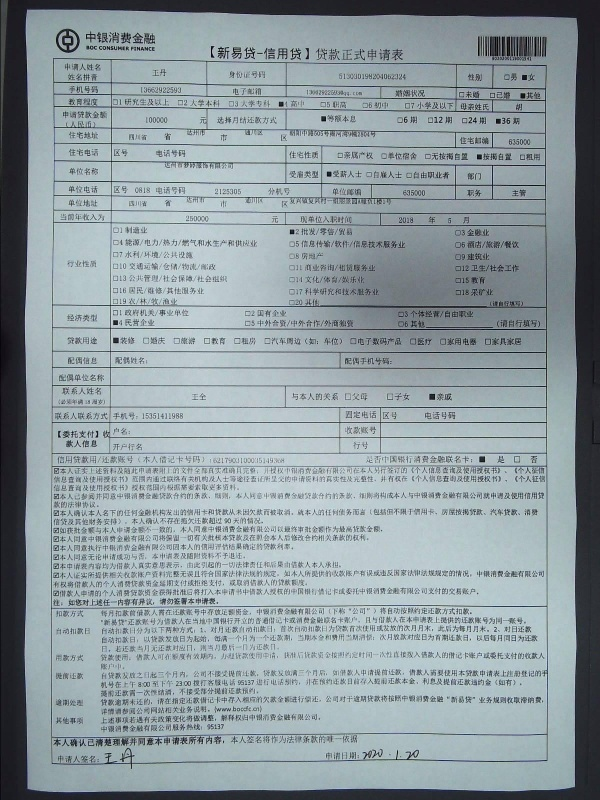text: (113, 747, 128, 770), (209, 44, 224, 63), (225, 44, 240, 63), (241, 44, 256, 63), (257, 44, 272, 63), (273, 44, 288, 63), (289, 44, 304, 63), (305, 44, 320, 63), (321, 44, 336, 63), (337, 44, 352, 63), (353, 44, 368, 63), (369, 44, 384, 63), (385, 44, 400, 63), (97, 30, 112, 46), (113, 30, 128, 46), (129, 30, 144, 46), (113, 97, 128, 112), (129, 97, 144, 112), (145, 97, 160, 112), (161, 97, 176, 112), (177, 97, 192, 112), (193, 97, 208, 112), (209, 97, 224, 112), (225, 97, 240, 112), (241, 97, 256, 112), (257, 97, 272, 112), (273, 97, 288, 112), (289, 97, 304, 112), (305, 97, 320, 112), (321, 97, 336, 112), (337, 97, 352, 112), (353, 97, 368, 112), (369, 97, 384, 112), (385, 97, 400, 112), (401, 97, 416, 112), (417, 97, 432, 112), (433, 97, 448, 112), (65, 733, 80, 748), (81, 733, 96, 748), (97, 733, 112, 748), (113, 733, 128, 748), (129, 733, 144, 748), (145, 733, 160, 748), (161, 733, 176, 748), (177, 733, 192, 748), (193, 733, 208, 748), (209, 733, 224, 748), (225, 733, 240, 748), (241, 733, 256, 748), (257, 733, 272, 748), (273, 733, 288, 748), (289, 733, 304, 748), (305, 733, 320, 748), (321, 733, 336, 748), (337, 733, 352, 748), (65, 753, 80, 768), (81, 753, 96, 768), (289, 273, 304, 287), (305, 273, 320, 287), (321, 273, 336, 287), (337, 273, 352, 287), (353, 273, 368, 287), (465, 286, 480, 300), (481, 286, 496, 300), (113, 335, 128, 349), (129, 335, 144, 349), (145, 335, 160, 349), (161, 335, 176, 349), (177, 335, 192, 349), (193, 335, 208, 349), (209, 335, 224, 349), (225, 335, 240, 349), (241, 335, 256, 349), (257, 335, 272, 349), (273, 335, 288, 349), (289, 335, 304, 349), (305, 335, 320, 349), (321, 335, 336, 349), (337, 335, 352, 349), (353, 335, 368, 349), (369, 335, 384, 349), (385, 335, 400, 349), (401, 335, 416, 349), (417, 335, 432, 349), (433, 335, 448, 349), (449, 335, 464, 349), (465, 335, 480, 349), (481, 335, 496, 349), (497, 335, 512, 349), (369, 452, 384, 466), (385, 452, 400, 466), (401, 452, 416, 466), (417, 452, 432, 466), (433, 452, 448, 466), (449, 452, 464, 466), (465, 452, 480, 466), (481, 452, 496, 466), (497, 452, 512, 466), (513, 452, 528, 466), (145, 30, 158, 46), (129, 747, 138, 770), (65, 62, 80, 75), (81, 62, 96, 75), (465, 89, 480, 102), (481, 89, 496, 102), (497, 89, 512, 102), (513, 89, 528, 102), (177, 160, 192, 173), (193, 160, 208, 173), (209, 160, 224, 173), (337, 169, 352, 182), (353, 169, 368, 182), (369, 169, 384, 182), (385, 169, 400, 182), (401, 169, 416, 182), (417, 169, 432, 182), (433, 169, 448, 182), (273, 187, 288, 200), (113, 237, 128, 250), (129, 237, 144, 250), (145, 237, 160, 250), (161, 237, 176, 250), (177, 237, 192, 250), (193, 237, 208, 250), (209, 237, 224, 250), (225, 237, 240, 250), (241, 237, 256, 250), (113, 261, 128, 274), (129, 261, 144, 274), (145, 261, 160, 274), (161, 261, 176, 274), (177, 261, 192, 274), (193, 261, 208, 274), (113, 273, 128, 286), (129, 273, 144, 286), (145, 273, 160, 286), (161, 273, 176, 286), (177, 273, 192, 286), (193, 273, 208, 286), (209, 273, 224, 286), (289, 262, 304, 275), (305, 262, 320, 275), (321, 262, 336, 275), (337, 262, 352, 275), (353, 262, 368, 275), (465, 238, 480, 251), (481, 238, 496, 251), (497, 238, 512, 251), (465, 262, 480, 275), (481, 262, 496, 275), (497, 262, 512, 275), (465, 274, 480, 287), (81, 312, 96, 325), (353, 356, 368, 369), (369, 356, 384, 369), (113, 441, 128, 454), (129, 441, 144, 454), (113, 624, 128, 637), (129, 624, 144, 637), (145, 624, 160, 637), (161, 624, 176, 637), (177, 624, 192, 637), (193, 624, 208, 637), (209, 624, 224, 637), (225, 624, 240, 637), (241, 624, 256, 637), (257, 624, 272, 637), (273, 624, 288, 637), (289, 624, 304, 637), (305, 624, 320, 637), (321, 624, 336, 637), (337, 624, 352, 637), (353, 624, 368, 637), (369, 624, 384, 637), (385, 624, 400, 637), (401, 624, 416, 637), (417, 624, 432, 637), (433, 624, 448, 637), (449, 624, 464, 637), (465, 624, 480, 637), (481, 624, 496, 637), (497, 624, 512, 637), (513, 624, 528, 637), (337, 750, 352, 763), (369, 748, 384, 761), (385, 748, 400, 761), (401, 748, 416, 761), (84, 30, 96, 46), (305, 150, 321, 162), (529, 150, 545, 162), (305, 169, 321, 181), (193, 285, 209, 297), (273, 455, 289, 467), (104, 747, 112, 770), (529, 89, 543, 102), (66, 312, 80, 325), (513, 335, 526, 349), (97, 43, 112, 55), (113, 43, 128, 55), (129, 43, 144, 55), (513, 71, 528, 83), (81, 84, 96, 96), (145, 84, 160, 96), (161, 84, 176, 96), (321, 87, 336, 99), (337, 87, 352, 99), (65, 110, 80, 122), (81, 110, 96, 122), (321, 113, 336, 125), (337, 113, 352, 125), (401, 115, 416, 127), (417, 115, 432, 127), (433, 115, 448, 127), (449, 115, 464, 127), (465, 115, 480, 127), (481, 115, 496, 127), (497, 115, 512, 127), (81, 147, 96, 159), (113, 148, 128, 160), (289, 150, 304, 162), (337, 150, 352, 162), (353, 150, 368, 162), (369, 150, 384, 162), (385, 150, 400, 162), (401, 150, 416, 162), (417, 150, 432, 162), (433, 150, 448, 162), (449, 150, 464, 162), (465, 150, 480, 162), (481, 150, 496, 162), (497, 150, 512, 162), (513, 150, 528, 162), (289, 169, 304, 181), (225, 186, 240, 198), (513, 187, 528, 199), (113, 249, 128, 261), (129, 249, 144, 261), (145, 249, 160, 261), (161, 249, 176, 261), (177, 249, 192, 261), (113, 285, 128, 297), (129, 285, 144, 297), (145, 285, 160, 297), (161, 285, 176, 297), (177, 285, 192, 297), (289, 238, 304, 250), (305, 238, 320, 250), (321, 238, 336, 250), (337, 238, 352, 250), (353, 238, 368, 250), (369, 238, 384, 250), (385, 238, 400, 250), (465, 251, 480, 263), (497, 318, 512, 330), (513, 318, 528, 330), (305, 391, 320, 403), (321, 391, 336, 403), (337, 391, 352, 403), (353, 391, 368, 403), (369, 391, 384, 403), (385, 391, 400, 403), (401, 391, 416, 403), (417, 391, 432, 403), (433, 391, 448, 403), (433, 410, 448, 422), (113, 425, 128, 437), (65, 438, 80, 450), (81, 438, 96, 450), (353, 425, 368, 437), (353, 440, 368, 452), (65, 455, 80, 467), (81, 455, 96, 467), (97, 455, 112, 467), (113, 455, 128, 467), (129, 455, 144, 467), (145, 455, 160, 467), (161, 455, 176, 467), (177, 455, 192, 467), (193, 455, 208, 467), (209, 455, 224, 467), (225, 455, 240, 467), (241, 455, 256, 467), (257, 455, 272, 467), (65, 569, 80, 581), (81, 569, 96, 581), (97, 569, 112, 581), (113, 569, 128, 581), (129, 569, 144, 581), (145, 569, 160, 581), (161, 569, 176, 581), (177, 569, 192, 581), (193, 569, 208, 581), (209, 569, 224, 581), (225, 569, 240, 581), (241, 569, 256, 581), (257, 569, 272, 581), (273, 569, 288, 581), (289, 569, 304, 581), (305, 569, 320, 581), (321, 569, 336, 581), (337, 569, 352, 581), (353, 569, 368, 581), (369, 569, 384, 581), (385, 569, 400, 581), (401, 569, 416, 581), (417, 569, 432, 581), (433, 569, 448, 581), (449, 569, 464, 581), (465, 569, 480, 581), (481, 569, 496, 581), (497, 569, 512, 581), (513, 569, 528, 581), (529, 569, 544, 581), (65, 587, 80, 599), (81, 587, 96, 599), (97, 587, 112, 599), (113, 587, 128, 599), (129, 587, 144, 599), (145, 587, 160, 599), (161, 587, 176, 599), (177, 587, 192, 599), (193, 587, 208, 599), (209, 587, 224, 599), (225, 587, 240, 599), (241, 587, 256, 599), (257, 587, 272, 599), (273, 587, 288, 599), (289, 587, 304, 599), (305, 587, 320, 599), (321, 587, 336, 599), (337, 587, 352, 599), (353, 587, 368, 599), (369, 587, 384, 599), (385, 587, 400, 599), (401, 587, 416, 599), (417, 587, 432, 599), (433, 587, 448, 599), (449, 587, 464, 599), (465, 587, 480, 599), (65, 715, 80, 727), (113, 607, 128, 619), (129, 607, 144, 619), (145, 607, 160, 619), (161, 607, 176, 619), (177, 607, 192, 619), (193, 607, 208, 619), (209, 607, 224, 619), (225, 607, 240, 619), (241, 607, 256, 619), (257, 607, 272, 619), (273, 607, 288, 619), (289, 607, 304, 619), (305, 607, 320, 619), (321, 607, 336, 619), (337, 607, 352, 619), (353, 607, 368, 619), (369, 607, 384, 619), (385, 607, 400, 619), (401, 607, 416, 619), (417, 607, 432, 619), (433, 607, 448, 619), (449, 607, 464, 619), (113, 615, 128, 627), (129, 615, 144, 627), (145, 615, 160, 627), (161, 615, 176, 627), (177, 615, 192, 627), (193, 615, 208, 627), (209, 615, 224, 627), (225, 615, 240, 627), (241, 615, 256, 627), (257, 615, 272, 627), (273, 615, 288, 627), (289, 615, 304, 627), (305, 615, 320, 627), (321, 615, 336, 627), (337, 615, 352, 627), (353, 615, 368, 627), (369, 615, 384, 627), (385, 615, 400, 627), (401, 615, 416, 627), (417, 615, 432, 627), (433, 615, 448, 627), (449, 615, 464, 627), (465, 615, 480, 627), (481, 615, 496, 627), (497, 615, 512, 627), (513, 615, 528, 627), (113, 651, 128, 663), (129, 651, 144, 663), (145, 651, 160, 663), (161, 651, 176, 663), (177, 651, 192, 663), (193, 651, 208, 663), (209, 651, 224, 663), (225, 651, 240, 663), (241, 651, 256, 663), (257, 651, 272, 663), (273, 651, 288, 663), (289, 651, 304, 663), (305, 651, 320, 663), (321, 651, 336, 663), (337, 651, 352, 663), (353, 651, 368, 663), (369, 651, 384, 663), (385, 651, 400, 663), (401, 651, 416, 663), (417, 651, 432, 663), (433, 651, 448, 663), (449, 651, 464, 663), (465, 651, 480, 663), (481, 651, 496, 663), (497, 651, 512, 663), (513, 651, 528, 663), (529, 651, 544, 663), (113, 669, 128, 681), (129, 669, 144, 681), (145, 669, 160, 681), (161, 669, 176, 681), (177, 669, 192, 681), (193, 669, 208, 681), (209, 669, 224, 681), (225, 669, 240, 681), (241, 669, 256, 681), (257, 669, 272, 681), (273, 669, 288, 681), (289, 669, 304, 681), (305, 669, 320, 681), (321, 669, 336, 681), (337, 669, 352, 681), (353, 669, 368, 681), (369, 669, 384, 681), (385, 669, 400, 681), (401, 669, 416, 681), (417, 669, 432, 681), (433, 669, 448, 681), (449, 669, 464, 681), (465, 669, 480, 681), (481, 669, 496, 681), (497, 669, 512, 681), (513, 669, 528, 681), (529, 669, 544, 681), (113, 687, 128, 699), (129, 687, 144, 699), (145, 687, 160, 699), (161, 687, 176, 699), (177, 687, 192, 699), (193, 687, 208, 699), (209, 687, 224, 699), (225, 687, 240, 699), (241, 687, 256, 699), (113, 705, 128, 717), (129, 705, 144, 717), (145, 705, 160, 717), (161, 705, 176, 717), (177, 705, 192, 717), (193, 705, 208, 717), (209, 705, 224, 717), (225, 705, 240, 717), (241, 705, 256, 717), (113, 713, 128, 725), (129, 713, 144, 725), (145, 713, 160, 725), (161, 713, 176, 725), (177, 713, 192, 725), (193, 713, 208, 725), (209, 713, 224, 725), (225, 713, 240, 725), (241, 713, 256, 725), (257, 713, 272, 725), (273, 713, 288, 725), (289, 713, 304, 725), (305, 713, 320, 725), (113, 723, 128, 735), (129, 723, 144, 735), (145, 723, 160, 735), (161, 723, 176, 735), (177, 723, 192, 735), (193, 723, 208, 735), (209, 723, 224, 735), (273, 308, 289, 319), (385, 410, 401, 421), (163, 160, 176, 173), (306, 87, 320, 99), (481, 251, 495, 263), (452, 286, 464, 300), (529, 318, 543, 330), (290, 391, 304, 403), (529, 452, 541, 466), (241, 69, 256, 80), (241, 87, 256, 98), (401, 88, 416, 99), (81, 97, 96, 108), (65, 119, 80, 130), (81, 119, 96, 130), (225, 115, 240, 126), (241, 115, 256, 126), (257, 115, 272, 126), (81, 131, 96, 142), (161, 149, 176, 160), (81, 167, 96, 178), (81, 184, 96, 195), (113, 185, 128, 196), (129, 185, 144, 196), (145, 185, 160, 196), (161, 185, 176, 196), (337, 187, 352, 198), (465, 188, 480, 199), (81, 198, 96, 209), (65, 212, 80, 223), (81, 212, 96, 223), (193, 214, 208, 225), (305, 215, 320, 226), (321, 215, 336, 226), (337, 215, 352, 226), (401, 215, 416, 226), (417, 215, 432, 226), (433, 215, 448, 226), (449, 215, 464, 226), (81, 259, 96, 270), (113, 226, 128, 237), (129, 226, 144, 237), (113, 297, 128, 308), (129, 297, 144, 308), (145, 297, 160, 308), (161, 297, 176, 308), (289, 227, 304, 238), (305, 227, 320, 238), (321, 227, 336, 238), (337, 227, 352, 238), (289, 251, 304, 262), (305, 251, 320, 262), (113, 308, 128, 319), (129, 308, 144, 319), (145, 308, 160, 319), (161, 308, 176, 319), (177, 308, 192, 319), (113, 318, 128, 329), (129, 318, 144, 329), (257, 308, 272, 319), (401, 319, 416, 330), (81, 336, 96, 347), (129, 356, 144, 367), (65, 373, 80, 384), (81, 373, 96, 384), (353, 410, 368, 421), (369, 410, 384, 421), (65, 429, 80, 440), (81, 429, 96, 440), (65, 483, 80, 494), (81, 483, 96, 494), (97, 483, 112, 494), (113, 483, 128, 494), (129, 483, 144, 494), (145, 483, 160, 494), (161, 483, 176, 494), (177, 483, 192, 494), (193, 483, 208, 494), (209, 483, 224, 494), (225, 483, 240, 494), (65, 500, 80, 511), (81, 500, 96, 511), (65, 507, 80, 518), (81, 507, 96, 518), (97, 507, 112, 518), (113, 507, 128, 518), (129, 507, 144, 518), (145, 507, 160, 518), (161, 507, 176, 518), (177, 507, 192, 518), (193, 507, 208, 518), (209, 507, 224, 518), (225, 507, 240, 518), (241, 507, 256, 518), (257, 507, 272, 518), (273, 507, 288, 518), (289, 507, 304, 518), (305, 507, 320, 518), (321, 507, 336, 518), (337, 507, 352, 518), (353, 507, 368, 518), (369, 507, 384, 518), (385, 507, 400, 518), (401, 507, 416, 518), (417, 507, 432, 518), (433, 507, 448, 518), (449, 507, 464, 518), (465, 507, 480, 518), (481, 507, 496, 518), (497, 507, 512, 518), (513, 507, 528, 518), (65, 525, 80, 536), (81, 525, 96, 536), (97, 525, 112, 536), (113, 525, 128, 536), (129, 525, 144, 536), (145, 525, 160, 536), (161, 525, 176, 536), (177, 525, 192, 536), (193, 525, 208, 536), (209, 525, 224, 536), (225, 525, 240, 536), (241, 525, 256, 536), (257, 525, 272, 536), (273, 525, 288, 536), (289, 525, 304, 536), (305, 525, 320, 536), (321, 525, 336, 536), (337, 525, 352, 536), (353, 525, 368, 536), (369, 525, 384, 536), (65, 533, 80, 544), (81, 533, 96, 544), (97, 533, 112, 544), (113, 533, 128, 544), (129, 533, 144, 544), (145, 533, 160, 544), (161, 533, 176, 544), (177, 533, 192, 544), (193, 533, 208, 544), (209, 533, 224, 544), (225, 533, 240, 544), (241, 533, 256, 544), (257, 533, 272, 544), (273, 533, 288, 544), (289, 533, 304, 544), (305, 533, 320, 544), (321, 533, 336, 544), (337, 533, 352, 544), (353, 533, 368, 544), (65, 543, 80, 554), (81, 543, 96, 554), (97, 543, 112, 554), (113, 543, 128, 554), (129, 543, 144, 554), (145, 543, 160, 554), (161, 543, 176, 554), (177, 543, 192, 554), (193, 543, 208, 554), (209, 543, 224, 554), (225, 543, 240, 554), (241, 543, 256, 554), (257, 543, 272, 554), (273, 543, 288, 554), (65, 551, 80, 562), (81, 551, 96, 562), (97, 551, 112, 562), (113, 551, 128, 562), (129, 551, 144, 562), (145, 551, 160, 562), (161, 551, 176, 562), (177, 551, 192, 562), (193, 551, 208, 562), (209, 551, 224, 562), (225, 551, 240, 562), (65, 561, 80, 572), (81, 561, 96, 572), (97, 561, 112, 572), (113, 561, 128, 572), (129, 561, 144, 572), (145, 561, 160, 572), (161, 561, 176, 572), (177, 561, 192, 572), (193, 561, 208, 572), (209, 561, 224, 572), (225, 561, 240, 572), (241, 561, 256, 572), (257, 561, 272, 572), (273, 561, 288, 572), (289, 561, 304, 572), (305, 561, 320, 572), (321, 561, 336, 572), (65, 579, 80, 590), (81, 579, 96, 590), (97, 579, 112, 590), (113, 579, 128, 590), (129, 579, 144, 590), (145, 579, 160, 590), (161, 579, 176, 590), (177, 579, 192, 590), (193, 579, 208, 590), (209, 579, 224, 590), (225, 579, 240, 590), (241, 579, 256, 590), (257, 579, 272, 590), (273, 579, 288, 590), (289, 579, 304, 590), (65, 597, 80, 608), (81, 597, 96, 608), (97, 597, 112, 608), (113, 597, 128, 608), (129, 597, 144, 608), (145, 597, 160, 608), (161, 597, 176, 608), (177, 597, 192, 608), (193, 597, 208, 608), (65, 608, 80, 619), (65, 626, 80, 637), (65, 671, 80, 682), (65, 697, 80, 708), (113, 634, 128, 645), (129, 634, 144, 645), (145, 634, 160, 645), (161, 634, 176, 645), (177, 634, 192, 645), (193, 634, 208, 645), (209, 634, 224, 645), (225, 634, 240, 645), (241, 634, 256, 645), (257, 634, 272, 645), (273, 634, 288, 645), (289, 634, 304, 645), (305, 634, 320, 645), (321, 634, 336, 645), (337, 634, 352, 645), (353, 634, 368, 645), (369, 634, 384, 645), (385, 634, 400, 645), (401, 634, 416, 645), (417, 634, 432, 645), (433, 634, 448, 645), (449, 634, 464, 645), (465, 634, 480, 645), (481, 634, 496, 645), (497, 634, 512, 645), (513, 634, 528, 645), (113, 644, 128, 655), (129, 644, 144, 655), (145, 644, 160, 655), (161, 644, 176, 655), (177, 644, 192, 655), (193, 644, 208, 655), (209, 644, 224, 655), (225, 644, 240, 655), (241, 644, 256, 655), (257, 644, 272, 655), (113, 679, 128, 690), (129, 679, 144, 690), (145, 679, 160, 690), (161, 679, 176, 690), (177, 679, 192, 690), (193, 679, 208, 690), (209, 679, 224, 690), (225, 679, 240, 690), (241, 679, 256, 690), (257, 679, 272, 690), (273, 679, 288, 690), (289, 679, 304, 690), (305, 679, 320, 690), (321, 679, 336, 690), (337, 679, 352, 690), (353, 679, 368, 690), (369, 679, 384, 690), (385, 679, 400, 690), (401, 679, 416, 690), (417, 679, 432, 690), (433, 679, 448, 690), (449, 679, 464, 690), (465, 679, 480, 690), (481, 679, 496, 690), (497, 679, 512, 690), (113, 696, 128, 707), (129, 696, 144, 707), (145, 696, 160, 707), (161, 696, 176, 707), (177, 696, 192, 707), (193, 696, 208, 707), (209, 696, 224, 707), (225, 696, 240, 707), (241, 696, 256, 707), (257, 696, 272, 707), (273, 696, 288, 707), (289, 696, 304, 707), (305, 696, 320, 707), (321, 696, 336, 707), (337, 696, 352, 707), (353, 696, 368, 707), (369, 696, 384, 707), (385, 696, 400, 707), (401, 696, 416, 707), (417, 696, 432, 707), (433, 696, 448, 707), (449, 696, 464, 707), (465, 696, 480, 707), (481, 696, 496, 707), (497, 696, 512, 707), (513, 696, 528, 707), (529, 696, 544, 707), (53, 733, 64, 748), (145, 43, 158, 55), (67, 84, 80, 96), (67, 147, 80, 159), (225, 160, 237, 173), (369, 262, 381, 275), (452, 274, 464, 287), (99, 607, 112, 619), (99, 669, 112, 681), (324, 750, 336, 763), (466, 171, 480, 182), (66, 184, 80, 195), (402, 188, 416, 199), (114, 356, 128, 367), (97, 429, 111, 440), (529, 507, 543, 518), (81, 73, 96, 83), (465, 102, 480, 112), (129, 133, 144, 143), (465, 136, 480, 146), (513, 137, 528, 147), (129, 200, 144, 210), (289, 287, 304, 297), (305, 287, 320, 297), (321, 287, 336, 297), (337, 287, 352, 297), (353, 287, 368, 297), (289, 298, 304, 308), (305, 298, 320, 308), (465, 228, 480, 238), (257, 319, 272, 329), (273, 319, 288, 329), (289, 319, 304, 329), (305, 319, 320, 329), (321, 319, 336, 329), (337, 319, 352, 329), (401, 310, 416, 320), (417, 310, 432, 320), (433, 310, 448, 320), (449, 310, 464, 320), (81, 356, 96, 366), (65, 387, 80, 397), (81, 387, 96, 397), (193, 392, 208, 402), (65, 411, 80, 421), (81, 411, 96, 421), (97, 411, 112, 421), (113, 411, 128, 421), (129, 411, 144, 421), (145, 411, 160, 421), (161, 411, 176, 421), (65, 466, 80, 476), (81, 466, 96, 476), (97, 466, 112, 476), (113, 466, 128, 476), (129, 466, 144, 476), (145, 466, 160, 476), (161, 466, 176, 476), (177, 466, 192, 476), (193, 466, 208, 476), (209, 466, 224, 476), (225, 466, 240, 476), (241, 466, 256, 476), (257, 466, 272, 476), (273, 466, 288, 476), (289, 466, 304, 476), (305, 466, 320, 476), (321, 466, 336, 476), (337, 466, 352, 476), (353, 466, 368, 476), (369, 466, 384, 476), (385, 466, 400, 476), (401, 466, 416, 476), (417, 466, 432, 476), (433, 466, 448, 476), (449, 466, 464, 476), (465, 466, 480, 476), (481, 466, 496, 476), (497, 466, 512, 476), (513, 466, 528, 476), (529, 466, 544, 476), (65, 492, 80, 502), (81, 492, 96, 502), (97, 492, 112, 502), (113, 492, 128, 502), (129, 492, 144, 502), (145, 492, 160, 502), (161, 492, 176, 502), (177, 492, 192, 502), (193, 492, 208, 502), (209, 492, 224, 502), (225, 492, 240, 502), (241, 492, 256, 502), (257, 492, 272, 502), (273, 492, 288, 502), (289, 492, 304, 502), (305, 492, 320, 502), (321, 492, 336, 502), (337, 492, 352, 502), (353, 492, 368, 502), (369, 492, 384, 502), (385, 492, 400, 502), (401, 492, 416, 502), (417, 492, 432, 502), (433, 492, 448, 502), (449, 492, 464, 502), (465, 492, 480, 502), (481, 492, 496, 502), (497, 492, 512, 502), (513, 492, 528, 502), (529, 492, 544, 502), (65, 653, 80, 663), (353, 733, 363, 748), (84, 43, 96, 55), (353, 87, 365, 99), (193, 128, 209, 137), (193, 197, 209, 206), (52, 569, 64, 581), (52, 587, 64, 599), (100, 615, 112, 627), (100, 651, 112, 663), (100, 687, 112, 699), (100, 713, 112, 725), (67, 131, 80, 142), (163, 131, 176, 142), (177, 185, 190, 196), (67, 259, 80, 270), (453, 238, 464, 251), (453, 262, 464, 275), (145, 318, 158, 329), (67, 336, 80, 347), (385, 356, 396, 369), (209, 597, 222, 608), (101, 624, 112, 637), (514, 102, 528, 112), (369, 287, 383, 297), (353, 72, 368, 81), (369, 72, 384, 81), (385, 72, 400, 81), (449, 97, 458, 112), (145, 116, 160, 125), (497, 299, 512, 308), (65, 398, 80, 407), (81, 398, 96, 407), (65, 475, 80, 484), (81, 475, 96, 484), (97, 475, 112, 484), (113, 475, 128, 484), (129, 475, 144, 484), (145, 475, 160, 484), (161, 475, 176, 484), (177, 475, 192, 484), (193, 475, 208, 484), (209, 475, 224, 484), (225, 475, 240, 484), (241, 475, 256, 484), (257, 475, 272, 484), (273, 475, 288, 484), (289, 475, 304, 484), (305, 475, 320, 484), (321, 475, 336, 484), (337, 475, 352, 484), (353, 475, 368, 484), (369, 475, 384, 484), (385, 475, 400, 484), (401, 475, 416, 484), (417, 475, 432, 484), (433, 475, 448, 484), (449, 475, 464, 484), (465, 475, 480, 484), (481, 475, 496, 484), (497, 475, 512, 484), (513, 475, 528, 484), (529, 475, 544, 484), (65, 517, 80, 526), (81, 517, 96, 526), (97, 517, 112, 526), (113, 517, 128, 526), (129, 517, 144, 526), (145, 517, 160, 526), (161, 517, 176, 526), (177, 517, 192, 526), (193, 517, 208, 526), (209, 517, 224, 526), (225, 517, 240, 526), (241, 517, 256, 526), (401, 44, 408, 63), (228, 69, 240, 80), (417, 88, 429, 99), (68, 97, 80, 108), (97, 110, 108, 122), (177, 149, 189, 160), (68, 167, 80, 178), (353, 187, 365, 198), (68, 198, 80, 209), (97, 212, 109, 223), (453, 251, 464, 263), (244, 308, 256, 319), (417, 319, 429, 330), (52, 507, 64, 518), (52, 525, 64, 536), (52, 533, 64, 544), (52, 543, 64, 554), (52, 551, 64, 562), (52, 561, 64, 572), (52, 579, 64, 590), (52, 597, 64, 608), (81, 626, 93, 637), (465, 607, 476, 619), (529, 634, 541, 645), (100, 644, 112, 655), (273, 644, 285, 655), (513, 679, 525, 690), (100, 696, 112, 707), (101, 705, 112, 717), (101, 723, 112, 735), (67, 73, 80, 83), (467, 72, 480, 82), (326, 169, 336, 182), (209, 261, 219, 274), (513, 238, 523, 251), (513, 262, 523, 275), (481, 274, 491, 287), (67, 356, 80, 366), (342, 356, 352, 369), (353, 750, 363, 763), (338, 72, 352, 81), (513, 299, 527, 308), (113, 662, 127, 671), (257, 69, 268, 80), (417, 188, 428, 199), (53, 483, 64, 494), (53, 500, 64, 511), (101, 634, 112, 645), (101, 679, 112, 690), (497, 55, 512, 63), (513, 55, 528, 63), (161, 68, 171, 80), (502, 71, 512, 83), (529, 71, 539, 83), (198, 115, 208, 127), (289, 130, 304, 138), (305, 130, 320, 138), (321, 130, 336, 138), (337, 130, 352, 138), (353, 130, 368, 138), (214, 186, 224, 198), (164, 199, 176, 209), (305, 198, 320, 206), (321, 198, 336, 206), (337, 198, 352, 206), (353, 198, 368, 206), (369, 198, 384, 206), (481, 228, 493, 238), (465, 310, 477, 320), (449, 410, 459, 422), (369, 425, 379, 437), (52, 492, 64, 502), (54, 715, 64, 727), (481, 136, 492, 146), (453, 228, 464, 238), (245, 319, 256, 329), (53, 411, 64, 421), (53, 466, 64, 476), (289, 543, 299, 554), (54, 608, 64, 619), (54, 626, 64, 637), (151, 68, 160, 80), (513, 115, 522, 127), (97, 398, 109, 407), (52, 517, 64, 526), (257, 517, 269, 526), (100, 662, 112, 671), (257, 705, 266, 717), (291, 198, 304, 206), (360, 748, 368, 761), (417, 748, 425, 761), (481, 102, 491, 112), (278, 133, 288, 143), (246, 196, 256, 206), (231, 87, 240, 98), (215, 115, 224, 126), (97, 373, 106, 384), (53, 475, 64, 484), (241, 551, 250, 562), (55, 671, 64, 682), (55, 697, 64, 708), (244, 129, 256, 137), (401, 238, 409, 250), (424, 410, 432, 422), (344, 425, 352, 437), (56, 455, 64, 467), (97, 62, 104, 75), (225, 273, 232, 286), (529, 624, 536, 637), (161, 116, 171, 125), (257, 196, 266, 206), (177, 411, 186, 421), (55, 653, 64, 663), (58, 753, 64, 768), (369, 130, 380, 138), (385, 198, 396, 206), (184, 214, 192, 225), (337, 561, 345, 572), (177, 84, 184, 96), (449, 391, 456, 403), (273, 215, 281, 225), (81, 653, 89, 663), (458, 89, 464, 102), (257, 87, 264, 98), (273, 115, 280, 126), (297, 215, 304, 226), (465, 215, 472, 226), (345, 410, 352, 421), (57, 429, 64, 440), (305, 579, 312, 590), (81, 608, 88, 619), (97, 753, 102, 768), (401, 72, 409, 81), (353, 113, 359, 125), (488, 299, 496, 308), (97, 387, 104, 397), (145, 226, 151, 237), (321, 251, 327, 262), (145, 356, 151, 367), (58, 373, 64, 384), (97, 500, 103, 511), (267, 187, 272, 200), (185, 128, 192, 137), (281, 200, 288, 209), (97, 84, 102, 96), (139, 84, 144, 96), (97, 147, 102, 159), (193, 249, 198, 261), (369, 440, 374, 452), (81, 715, 86, 727), (545, 669, 550, 681), (257, 687, 262, 699), (321, 713, 326, 725), (257, 129, 264, 137), (395, 88, 400, 99), (97, 131, 102, 142), (155, 149, 160, 160), (97, 167, 102, 178), (97, 184, 102, 195), (331, 187, 336, 198), (59, 212, 64, 223), (177, 297, 182, 308), (81, 697, 86, 708), (186, 197, 192, 206), (58, 398, 64, 407), (449, 169, 453, 182), (289, 187, 293, 200), (481, 72, 486, 82), (145, 133, 150, 143), (225, 133, 230, 143), (459, 136, 464, 146), (507, 137, 512, 147), (529, 137, 534, 147), (145, 200, 150, 210), (225, 199, 230, 209), (490, 55, 496, 63), (529, 55, 535, 63), (396, 115, 400, 127), (129, 148, 133, 160), (129, 425, 133, 437), (225, 723, 229, 735), (545, 475, 550, 484), (97, 97, 101, 108), (481, 171, 485, 182), (481, 188, 485, 199), (97, 198, 101, 209), (209, 214, 213, 225), (353, 215, 357, 226), (353, 227, 357, 238), (396, 319, 400, 330), (241, 483, 245, 494), (369, 533, 373, 544), (81, 671, 85, 682), (365, 452, 368, 466), (460, 102, 464, 112), (220, 133, 224, 143), (220, 199, 224, 209), (353, 319, 357, 329), (257, 237, 260, 250), (241, 186, 244, 198), (545, 651, 548, 663), (97, 259, 100, 270), (97, 336, 100, 347), (545, 696, 548, 707), (97, 73, 100, 83), (269, 215, 272, 225), (397, 310, 400, 320), (97, 356, 100, 366), (61, 387, 64, 397), (545, 466, 548, 476), (545, 492, 548, 502), (289, 200, 292, 209), (97, 312, 99, 325), (62, 110, 64, 122), (510, 187, 512, 199), (110, 285, 112, 297), (545, 569, 547, 581), (481, 587, 483, 599), (529, 615, 531, 627), (398, 215, 400, 226), (110, 297, 112, 308), (385, 525, 387, 536), (190, 392, 192, 402), (111, 97, 112, 112), (287, 273, 288, 287), (369, 273, 370, 287), (111, 261, 112, 274), (111, 273, 112, 286), (145, 441, 146, 454), (335, 150, 336, 162), (111, 249, 112, 261), (97, 438, 98, 450), (97, 119, 98, 130), (287, 251, 288, 262), (111, 318, 112, 329), (127, 133, 128, 143), (289, 133, 290, 143), (127, 200, 128, 210), (321, 298, 322, 308), (209, 392, 210, 402)
